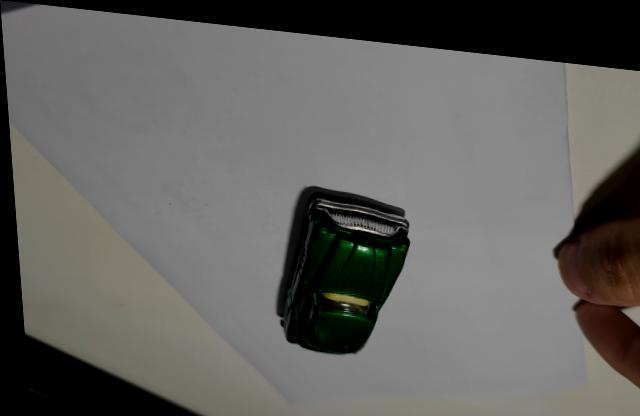06_MASERATI: (270, 177, 408, 347)
